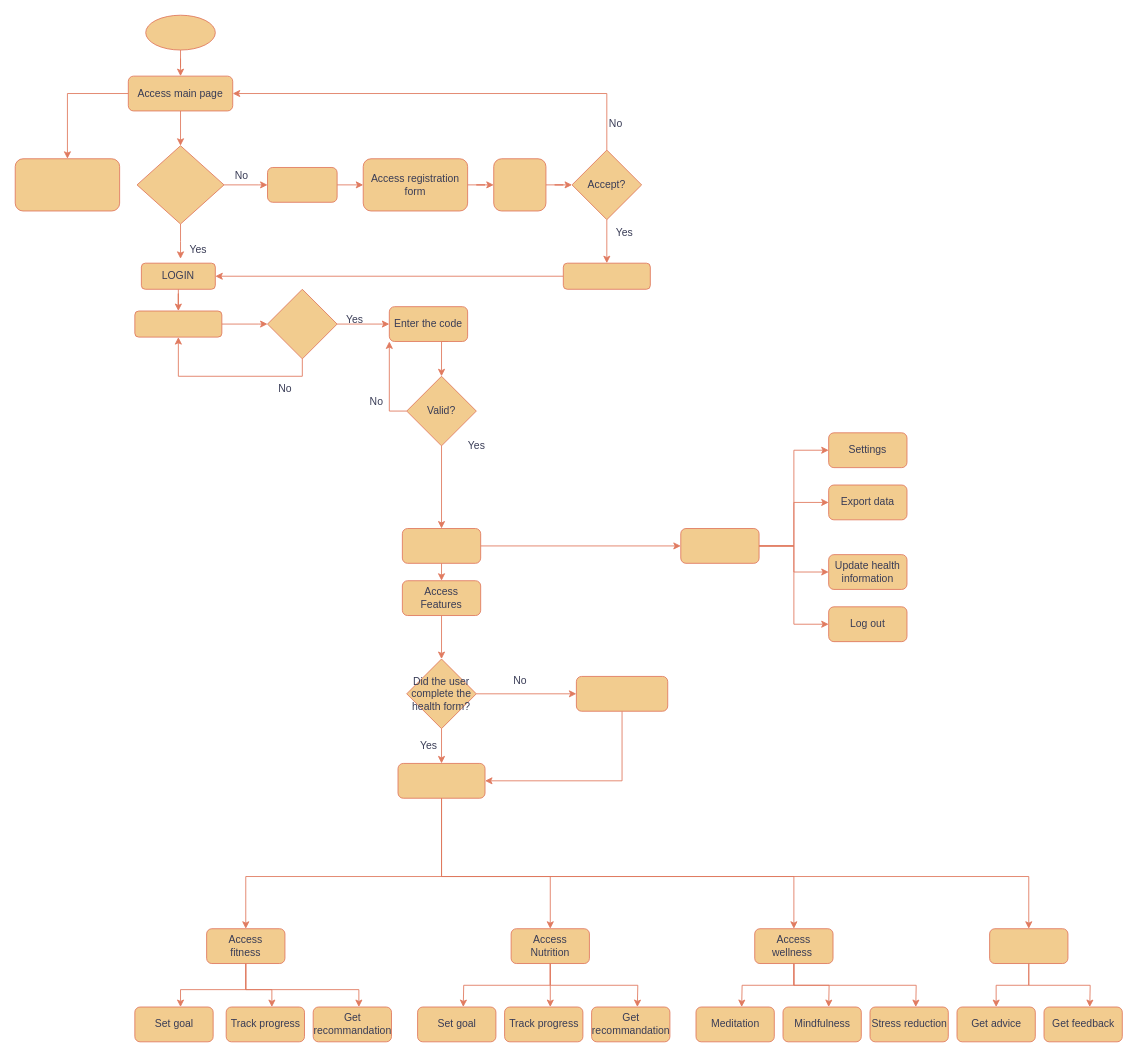
This 1138x1057 diagram has some shape labels left out. Here are the shapes that lost their labels. From the top down, the centre of each, then its label:
At pixel 180 32: "START".
At pixel 67 184: "Preview features".
At pixel 180 184: "Does the user have an account?".
At pixel 302 184: "Sign up".
At pixel 519 184: "GDPR".
At pixel 606 275: "Submit".
At pixel 178 323: "Enter email".
At pixel 302 323: "Is the email valid?".
At pixel 441 545: "Access Homepage".
At pixel 719 545: "Access Profile".
At pixel 622 693: "Complete health form".
At pixel 441 780: "Open features menu".
At pixel 1028 946: "Acces Chatbot".
